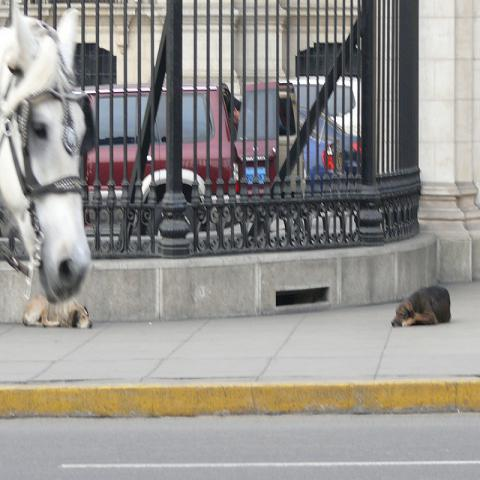car: (74, 85, 244, 193), (246, 76, 363, 198), (276, 85, 302, 192)
